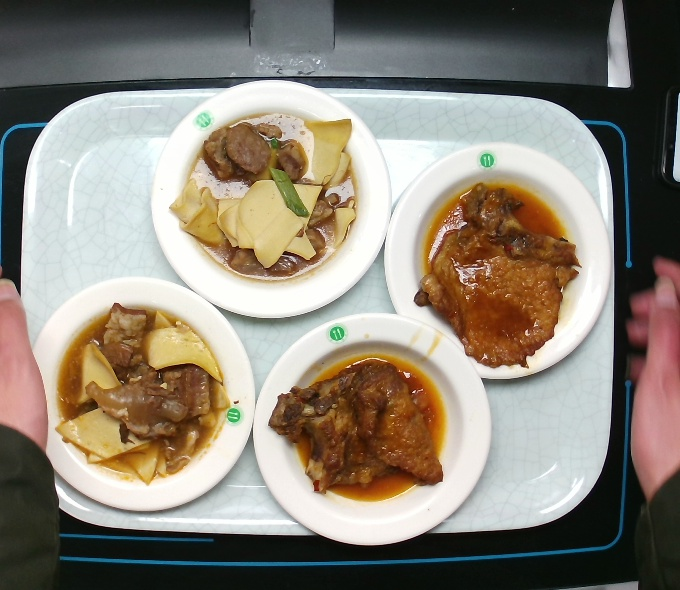wcq-DaPai: (414, 179, 582, 371), (265, 355, 444, 501)
wcq-QianZhangNiuRou: (183, 110, 360, 283), (55, 304, 227, 479)
